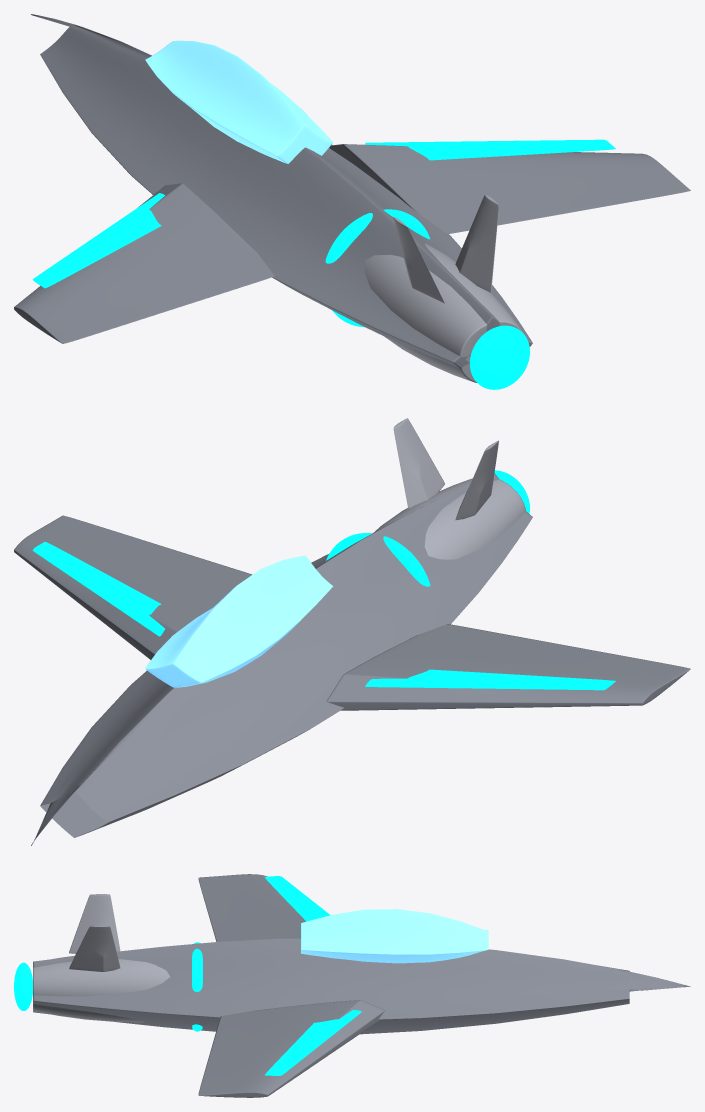
File: ship_tier1_viper.glb
3 renders of one model, top to bottom at view 1: azimuth 30°, elevation 25°; view 2: azimuth 150°, elevation 25°; view 3: azimuth 270°, elevation 25°, orthographic. The views are drawn at different scales.
Visible parts, largest first — view 1: Ship_Viper; view 2: Ship_Viper; view 3: Ship_Viper.
Part boxes in pixels (x1=…): Ship_Viper: x1=14, y1=14, x2=690, y2=389; Ship_Viper: x1=14, y1=418, x2=690, y2=845; Ship_Viper: x1=14, y1=874, x2=690, y2=1097.
Bounding box in the file's own units: 1.1 × 0.2963 × 1.44.
